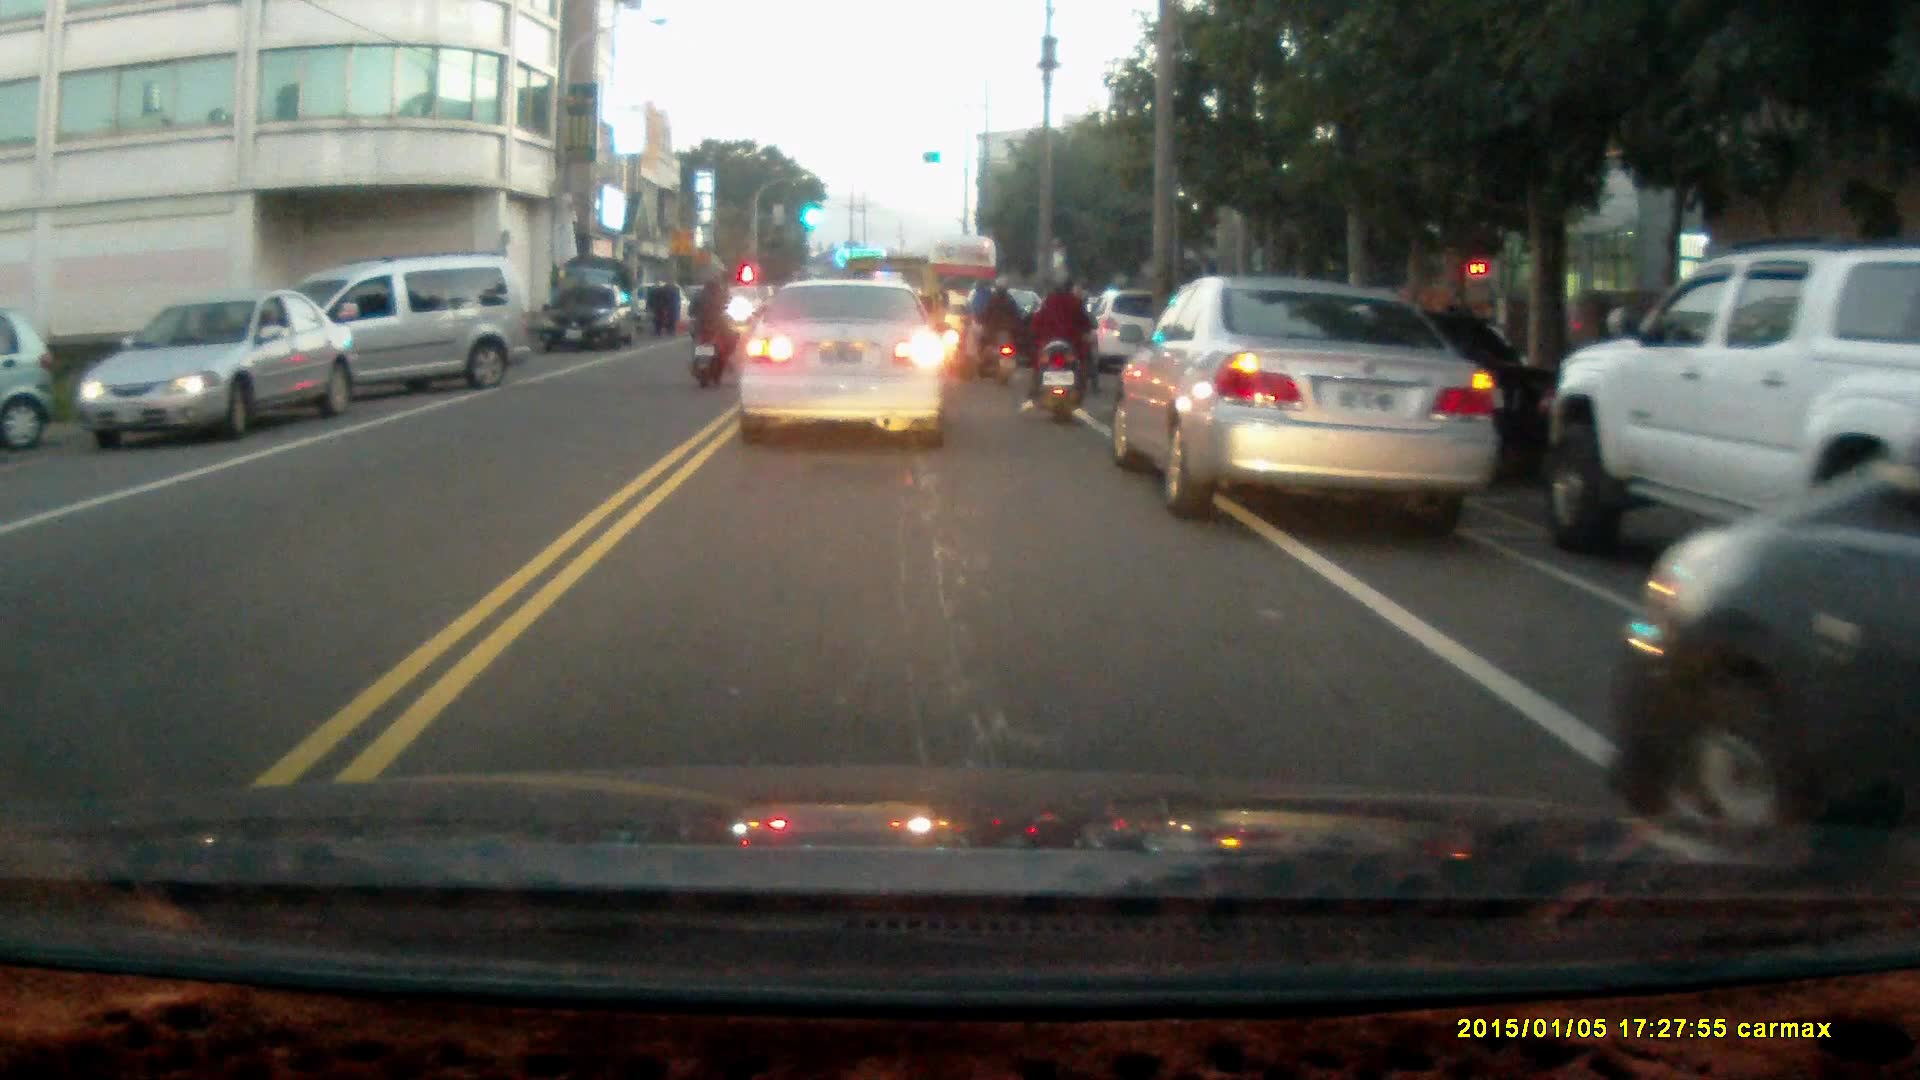pedestrian: (644, 274, 669, 338), (658, 276, 679, 335)
rider: (1018, 266, 1100, 425), (957, 269, 1023, 384), (686, 275, 734, 388)
vehicle: (1616, 432, 1920, 861), (1538, 243, 1920, 560), (1108, 269, 1497, 522), (239, 254, 536, 416), (82, 292, 355, 446), (736, 277, 950, 454), (1, 296, 57, 452), (539, 282, 637, 353)
